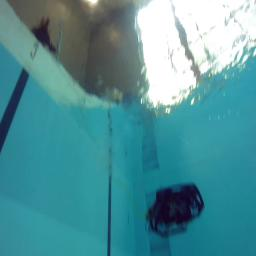Side: (144, 181, 204, 238)
